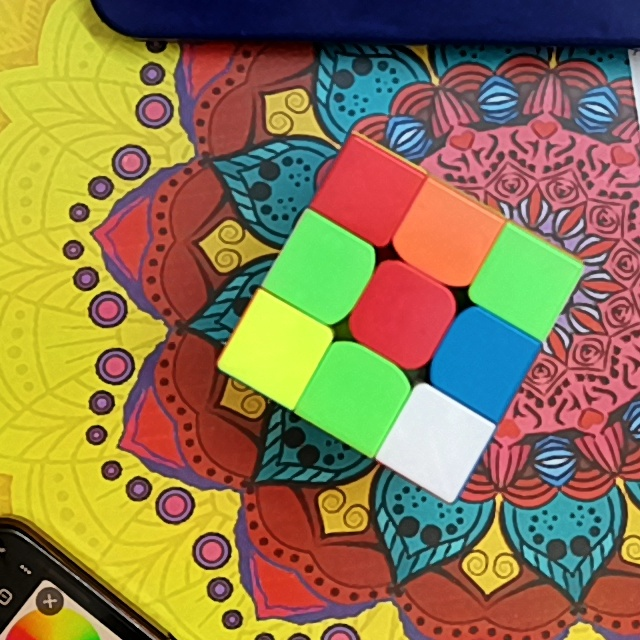tile: (322, 365, 385, 428), (292, 240, 356, 301), (403, 411, 466, 471), (370, 285, 434, 344), (452, 330, 512, 391), (338, 164, 396, 225), (244, 317, 305, 375), (494, 250, 554, 308), (418, 207, 476, 263)
